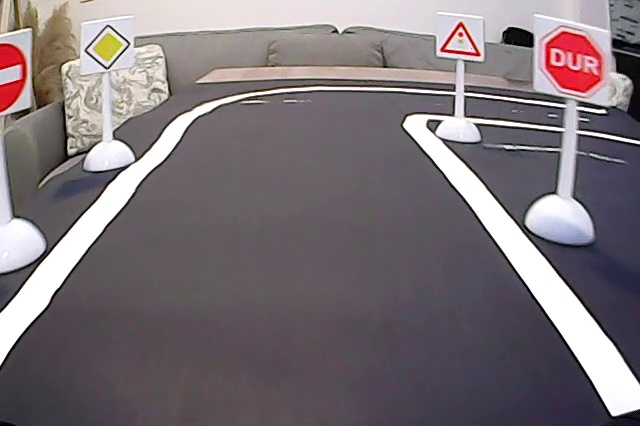do not enter: (1, 31, 30, 117)
red light: (437, 13, 485, 61)
stop sign: (535, 14, 612, 101)
